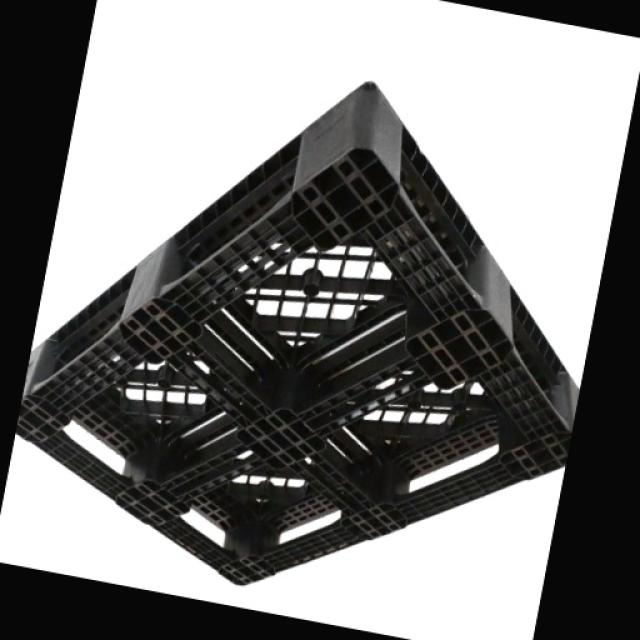non-igps: (13, 75, 583, 590)
